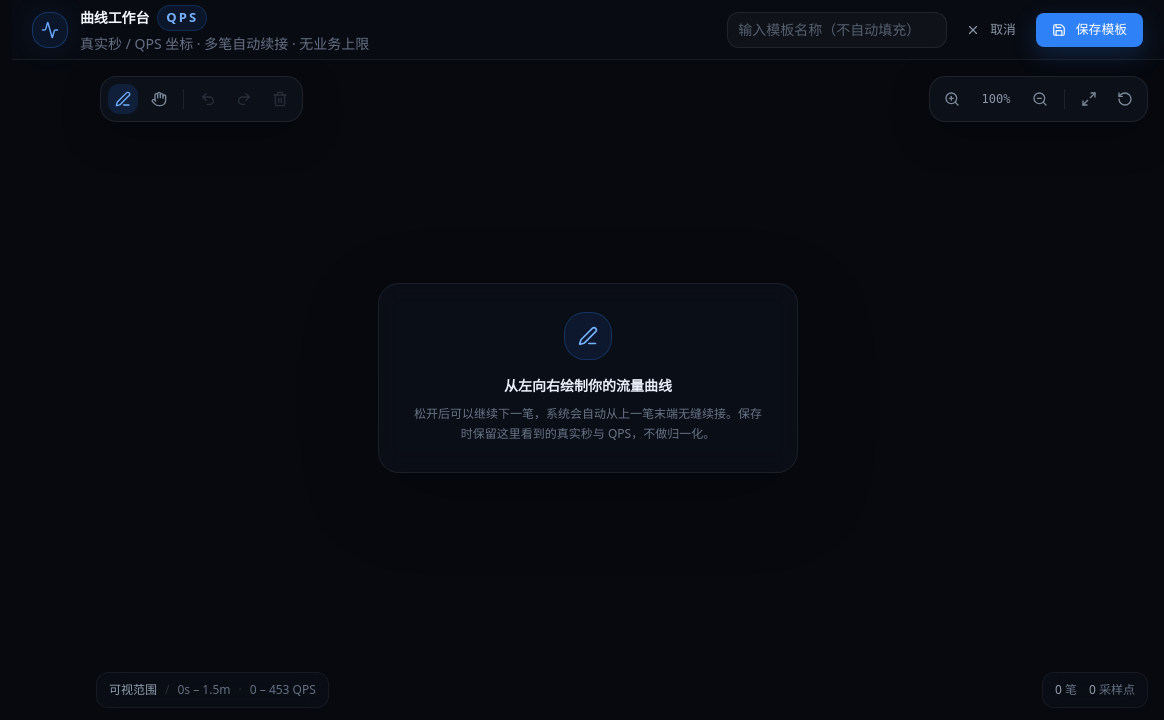
DrawCanvas 撤销/重做/清空/快捷键 › 清空曲线后重做/撤销按钮均禁用（清空即清空 redo 栈，#185）
Press the mouse on the drawing named "QPS 曲线绘制画布": (412, 260) [12,60,812,460]
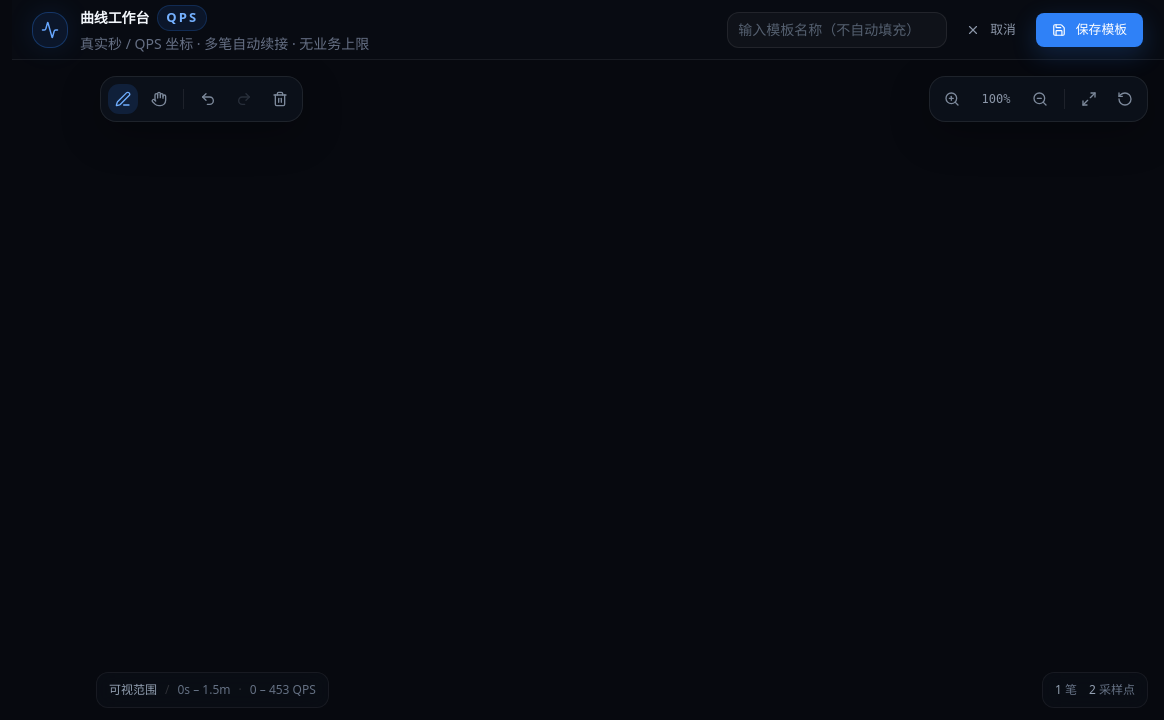
Click the button titled "清空曲线": (280, 99) [264,83,296,115]
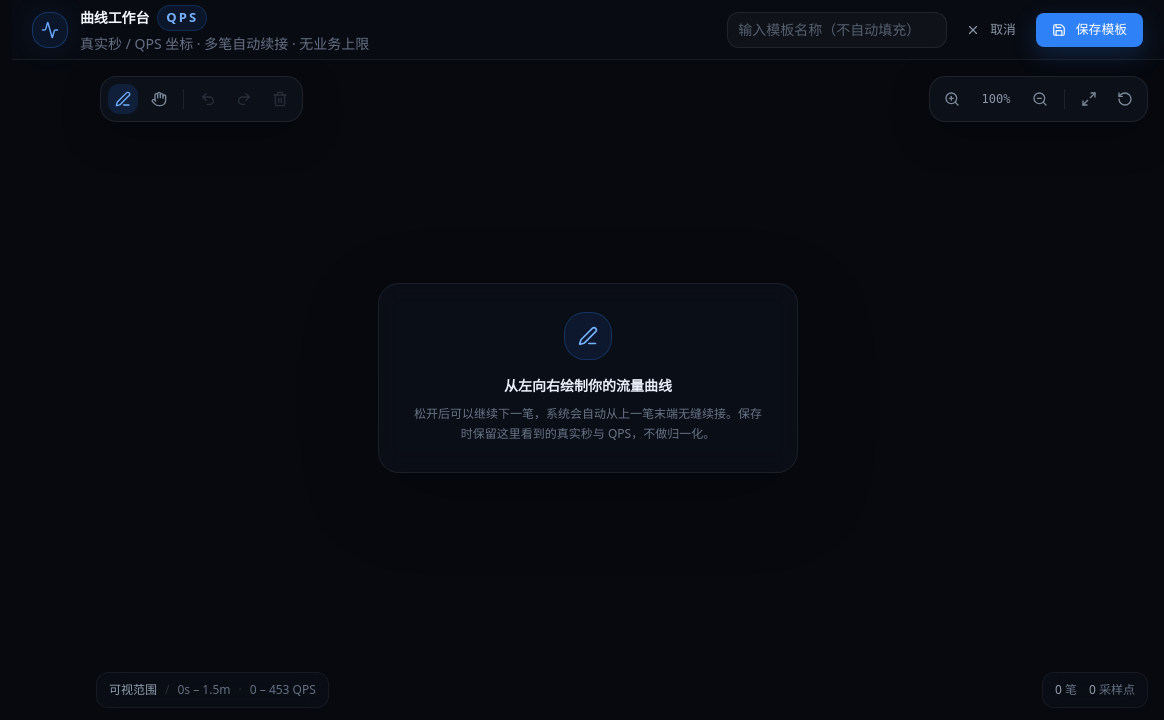
Check: the text "0 笔" is shown, box [1055,681,1077,699]
Check: the text "0 采样点" is shown, box [1089,681,1135,699]
Check: the button titled "清空曲线" is disabled, box [264,83,296,115]
